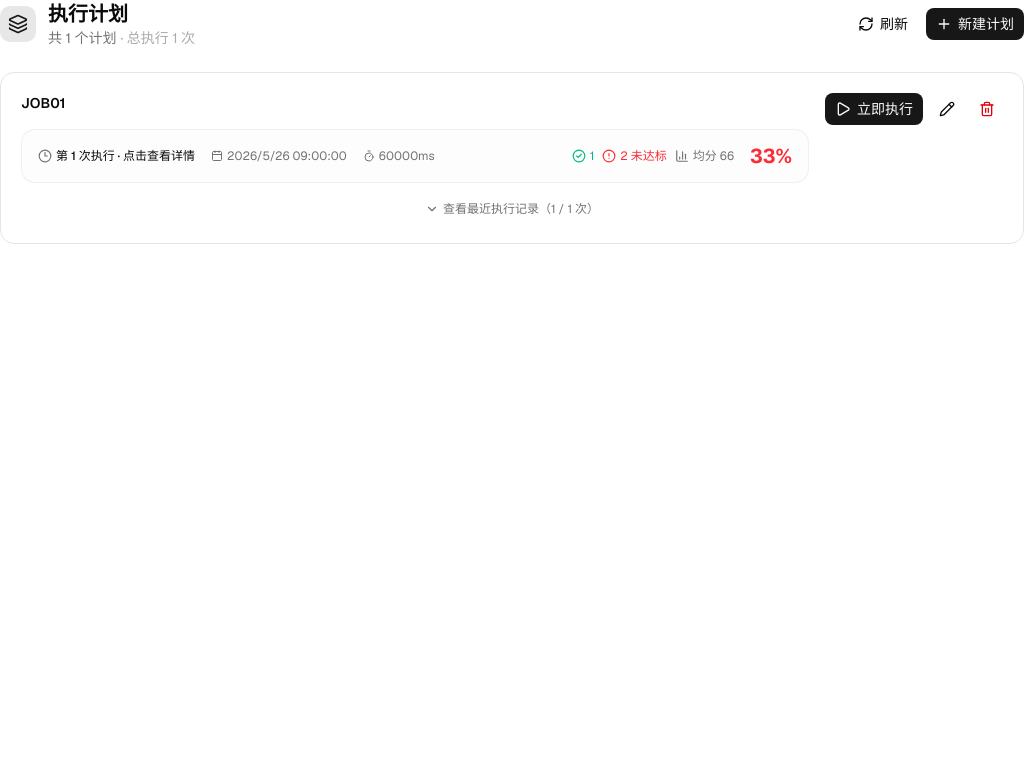
Test: AppPlansPage › inserts the server running run immediately and shows real progress from completed case count
Expected: the text "第 1 次执行 · 点击查看详情" is shown, [38,148,195,164]
Expected: the text "33%" is shown, [750,142,792,170]
Click the button "立即执行" at (874, 109), box [825,93,923,125]
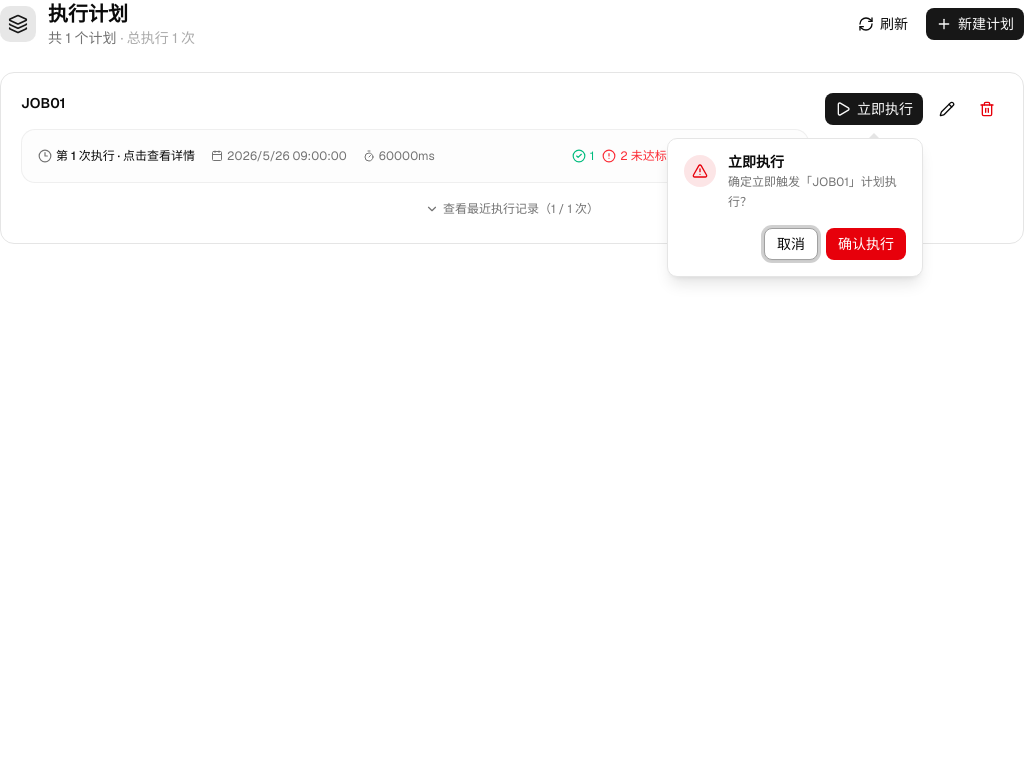
Click the button "确认执行" at (866, 244), box [826,228,906,260]
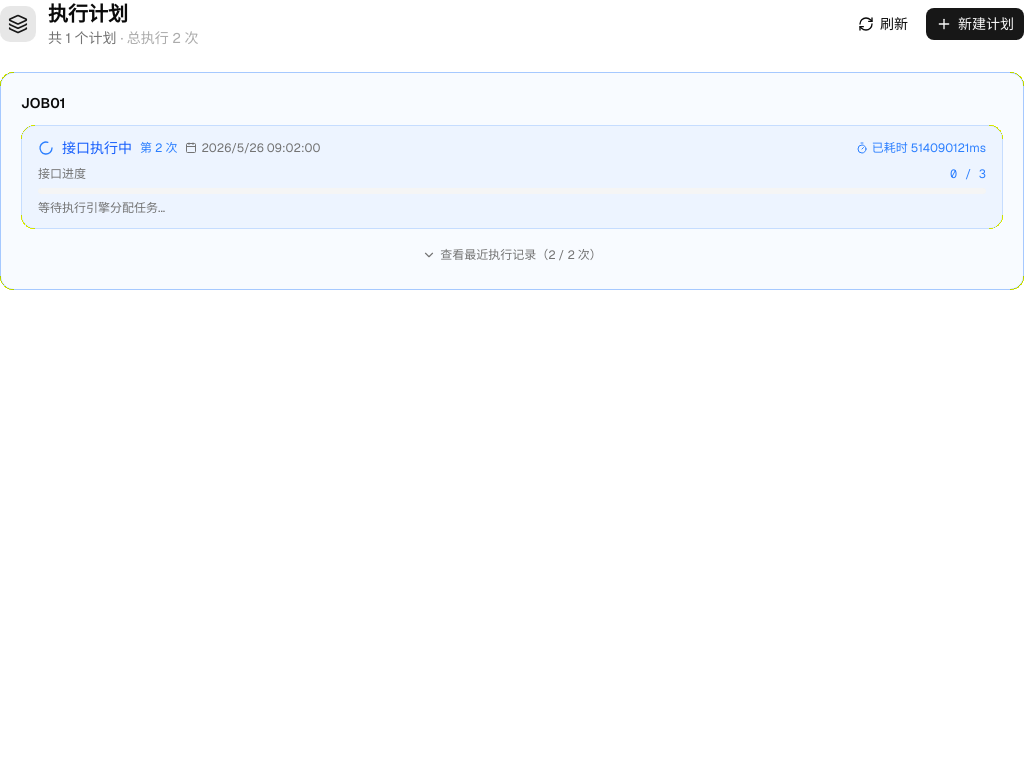
Expected: the text "接口执行中" is shown once, [62,138,132,158]
Expected: the text "0 / 3" is shown, [950,166,986,182]
Expected: the text "第 2 次" is shown, [140,140,177,156]
